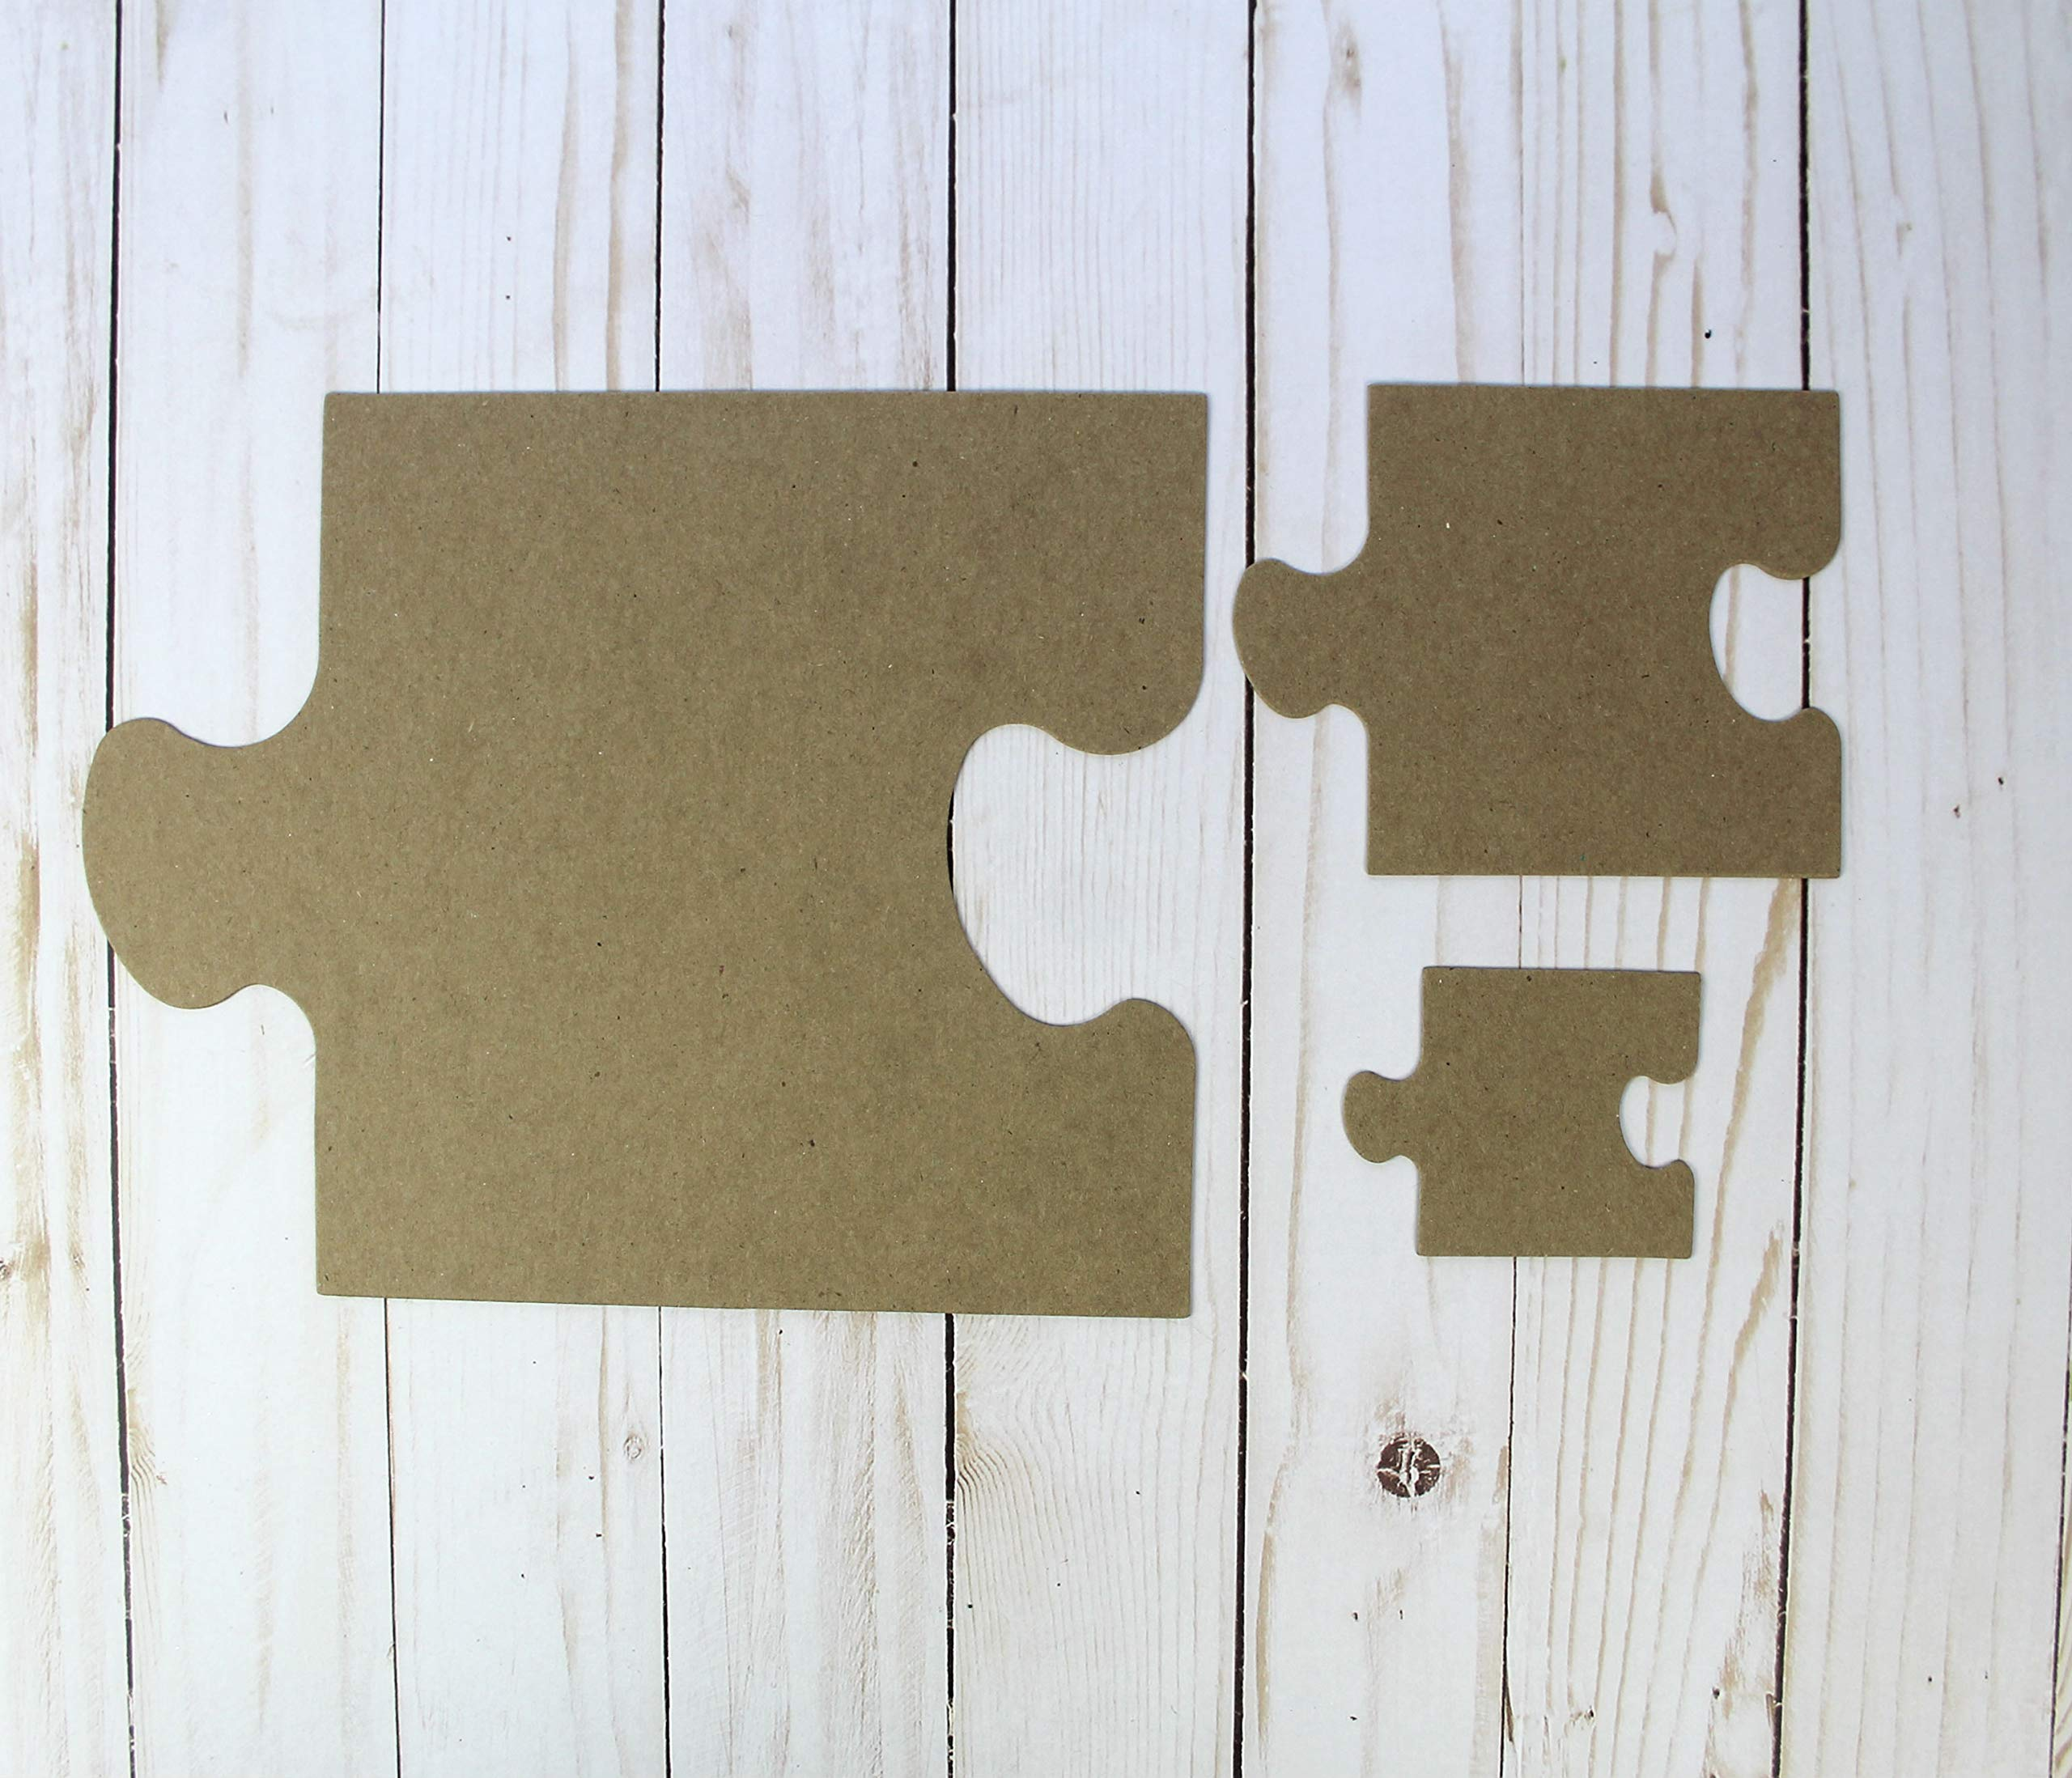puzzle piece: (49, 328, 1214, 1352), (1217, 351, 1873, 900), (1330, 945, 1721, 1285)
